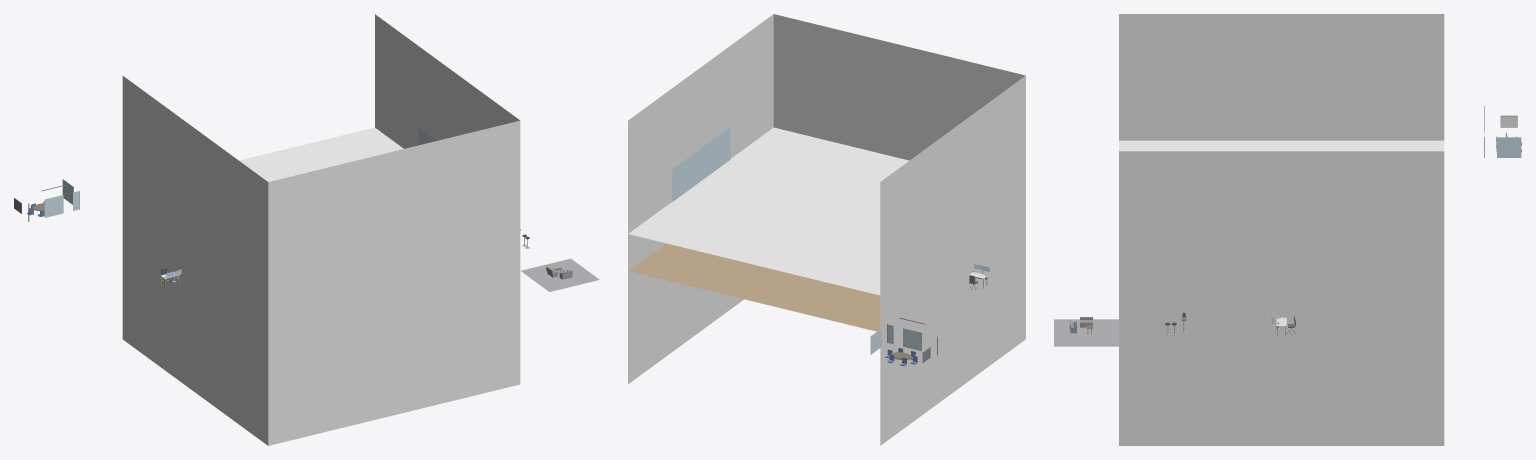
Rendered from office_complete.glb.
3 views of the same model, side by side, from view 1: azimuth 30°, elevation 25°; view 2: azimuth 150°, elevation 25°; view 3: azimuth 270°, elevation 25° (orthographic). The views are drawn at different scales.
Parts seen in each view (by area): view 1: Back_Wall, Left_Wall, Right_Wall, Ceiling, Carpet; view 2: Left_Wall, Ceiling, Back_Wall, Right_Wall, Floor, Window_Glass; view 3: Right_Wall, Left_Wall, Ceiling, Carpet, Glass_Right.
Boxes of the visible parts, box(x1,y1,x2,y2) form: Back_Wall: box(268, 120, 520, 445); Left_Wall: box(122, 76, 268, 445); Right_Wall: box(375, 14, 519, 148); Ceiling: box(239, 127, 403, 181); Carpet: box(521, 258, 599, 291); Left_Wall: box(880, 75, 1025, 445); Ceiling: box(628, 127, 908, 295); Back_Wall: box(773, 14, 1025, 160); Right_Wall: box(628, 14, 773, 384); Floor: box(628, 243, 880, 331); Window_Glass: box(672, 127, 730, 201); Right_Wall: box(1119, 151, 1444, 445); Left_Wall: box(1119, 14, 1444, 140); Ceiling: box(1119, 140, 1444, 151); Carpet: box(1054, 319, 1118, 346); Glass_Right: box(1497, 137, 1521, 157).
Size of the model in its own units: 30.02 by 20 by 28.78.
